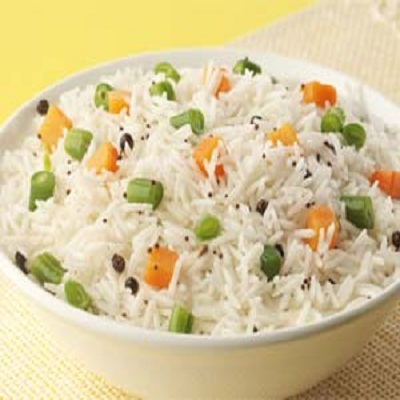plain rice: (5, 66, 392, 320)
